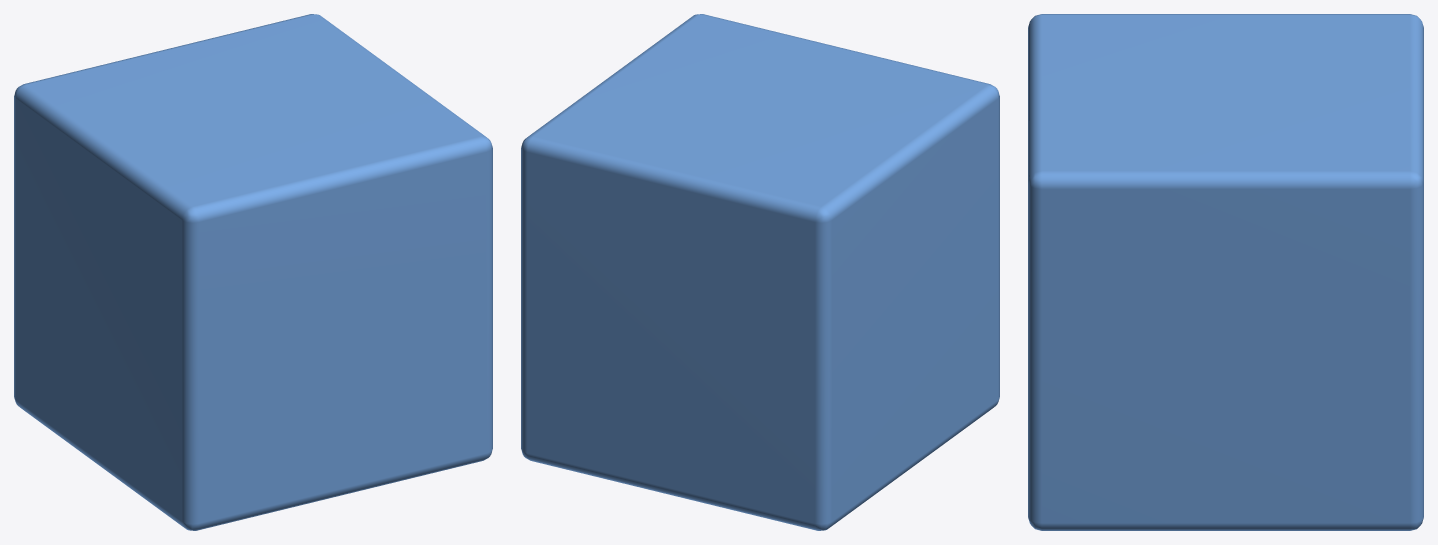
The model's file is bilsem-unit-cube.glb.
3 views of the same model, side by side, from view 1: azimuth 30°, elevation 25°; view 2: azimuth 150°, elevation 25°; view 3: azimuth 270°, elevation 25° (orthographic). The views are drawn at different scales.
Visible parts, largest first — view 1: BilsemUnitCube; view 2: BilsemUnitCube; view 3: BilsemUnitCube.
Boxes of the visible parts, bbox=[...] form: BilsemUnitCube: bbox=[14, 14, 492, 530]; BilsemUnitCube: bbox=[521, 14, 999, 530]; BilsemUnitCube: bbox=[1028, 14, 1423, 530].
Bounding box in the file's own units: 1 × 1 × 1.
